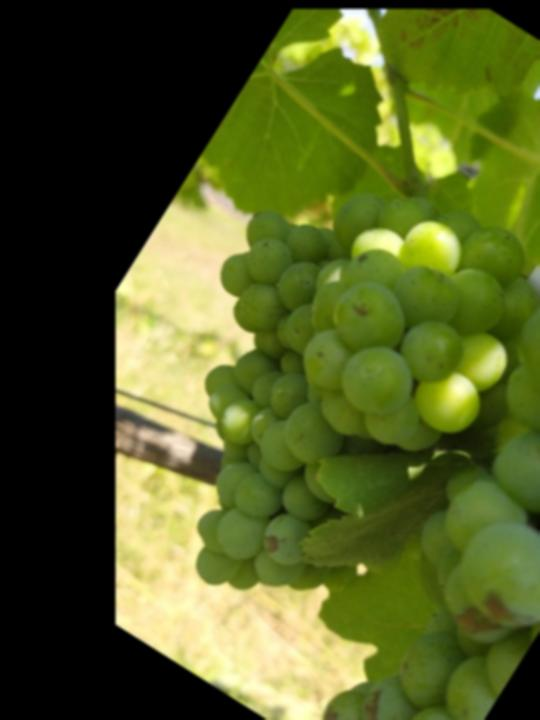grape: (70, 108, 540, 665)
